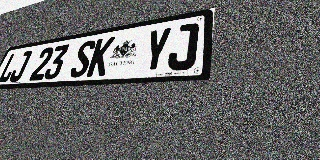2: (29, 46, 55, 81)
3: (42, 44, 70, 80)
J: (166, 22, 199, 71), (8, 50, 33, 82)
K: (86, 36, 116, 77)
L: (0, 52, 21, 83)
S: (68, 39, 97, 78)
Y: (140, 27, 172, 73)
